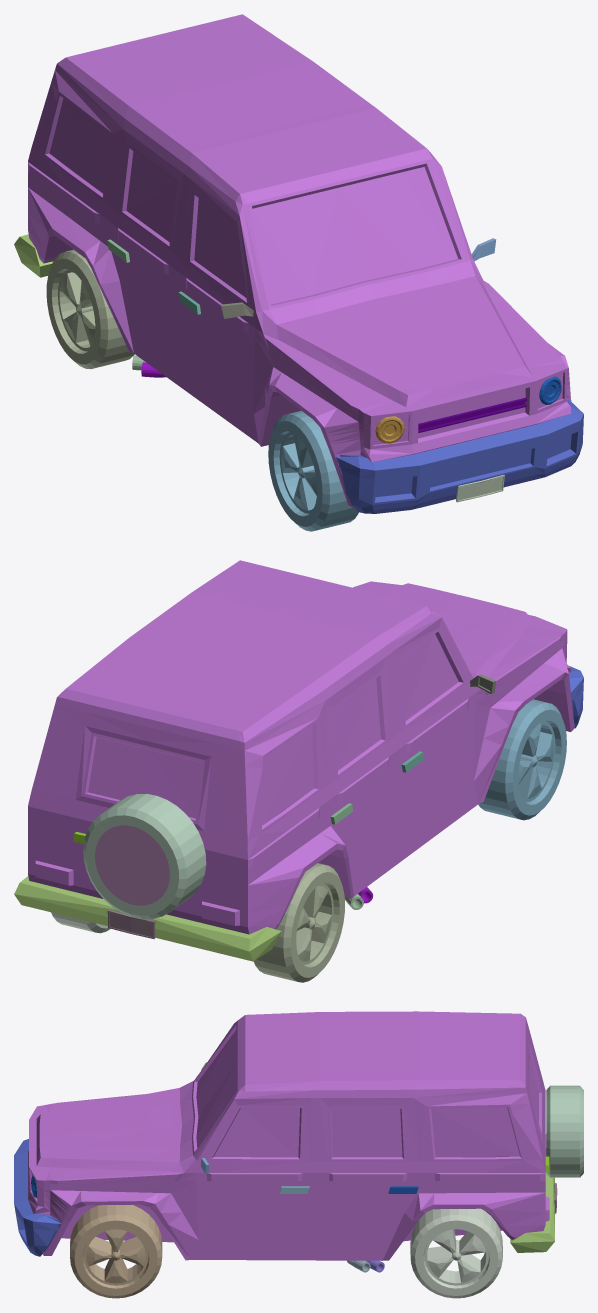
The picture shows the model from 3 angles, top to bottom: view 1: azimuth 30°, elevation 25°; view 2: azimuth 150°, elevation 25°; view 3: azimuth 270°, elevation 25°; orthographic projection. The views are drawn at different scales.
Visible parts, largest first — view 1: world; view 2: world; view 3: world.
Part boxes in pixels (x1,y1,x2,y2): world: (14, 14, 583, 531); world: (14, 560, 583, 982); world: (14, 1011, 583, 1298).
Size of the model in its own units: 0.8528 by 0.805 by 2.
